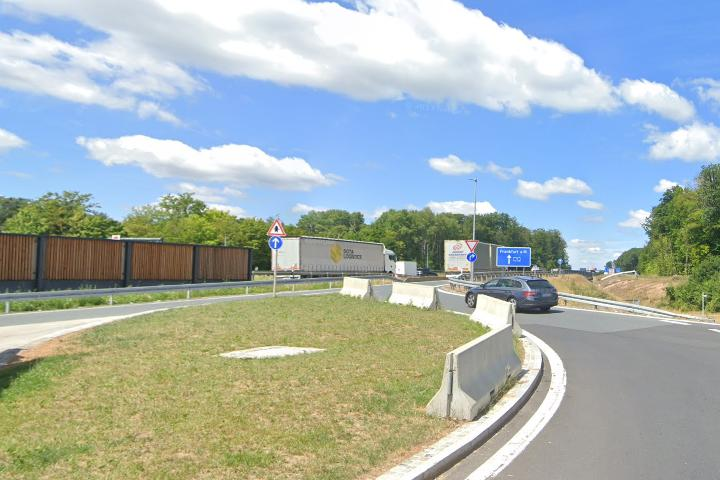traffic_sign: (266, 218, 287, 237), (269, 235, 283, 249), (466, 240, 479, 252), (467, 253, 477, 262)
vehicle: (265, 235, 402, 278), (463, 273, 560, 316)
